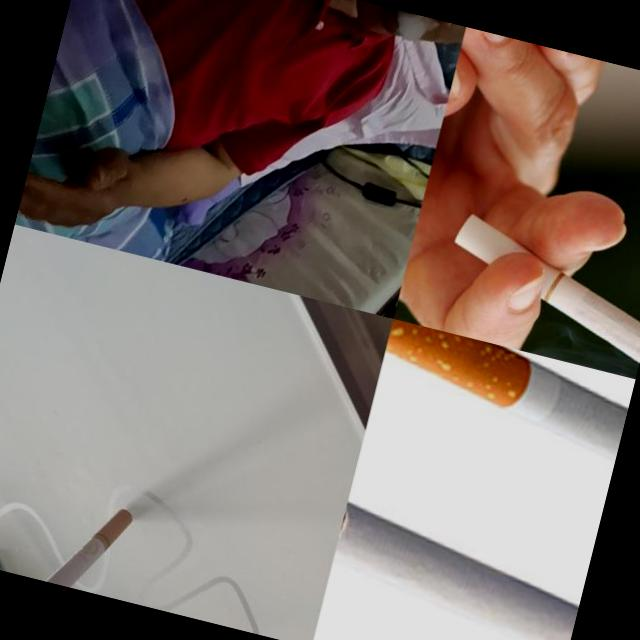smoke: (362, 318, 635, 502), (316, 499, 590, 640), (423, 202, 640, 379), (22, 488, 136, 599)
